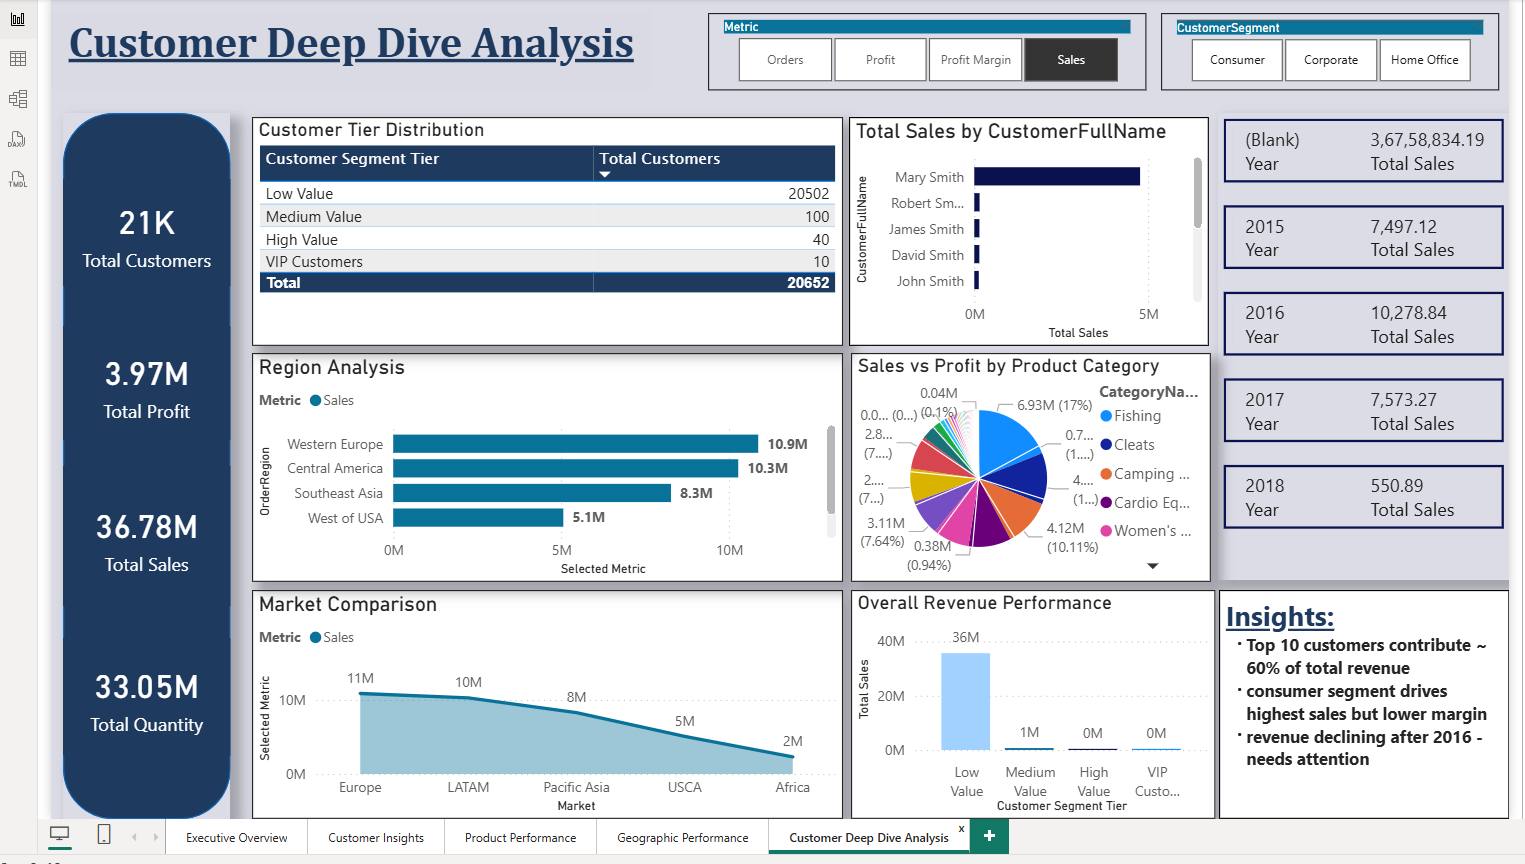

The dashboard page shown, as its layout file describes it:
{"tool":"powerbi","page":{"name":"Customer Deep Dive Analysis","canvas":[1280,720],"ordinal":4},"visuals":[{"type":"textbox","box":[0,10.9,527.2,68.8],"z":0},{"type":"slicer","fields":{"Values":["DimCustomer.CustomerSegment"]},"box":[974.8,12.1,296.8,67.6],"z":1000},{"type":"slicer","fields":{"Values":["Metric Selector.Metric"]},"box":[576.7,12.1,384.9,67.6],"z":2000},{"type":"areaChart","title":"Market Comparison","fields":{"Category":["FactOrders.Market"],"Y":["Metric Selector.Selected Metric"],"Series":["Metric Selector.Metric"]},"box":[176.1,518.8,518.8,201.5],"z":3000},{"type":"barChart","title":"Region Analysis","fields":{"Category":["DimMarket.OrderRegion"],"Series":["Metric Selector.Metric"],"Y":["Metric Selector.Selected Metric"]},"box":[176.1,311.3,518.8,201.5],"z":4000},{"type":"pieChart","title":"Sales vs Profit by Product Category","fields":{"Category":["DimProduct.CategoryName"],"Y":["Measures (1).Total Sales","Measures (1).Total Profit"]},"box":[702.1,311.3,316.1,201.5],"z":5000},{"type":"tableEx","title":"Customer Tier Distribution","fields":{"Values":["DimCustomer.Customer Segment Tier","Segmentation.Total Customers"]},"box":[176.1,103.8,518.8,201.5],"z":6000},{"type":"columnChart","title":"Overall Revenue Performance","fields":{"Category":["DimCustomer.Customer Segment Tier"],"Y":["Measures (1).Total Sales"]},"box":[702.1,518.5,319.7,201.5],"z":7000},{"type":"multiRowCard","title":"Annual Revenue Trend Analysis","fields":{"Values":["DimDate.Year","Measures (1).Total Sales"]},"box":[1024.3,100.1,255.8,410.2],"z":8000},{"type":"barChart","fields":{"Category":["DimCustomer.CustomerFullName"],"Y":["Measures (1).Total Sales"]},"box":[700.9,103.8,316.1,201.5],"z":9000},{"type":"shape","box":[10.9,100.1,147.2,620.1],"z":10000},{"type":"card","fields":{"Values":["Segmentation.Total Customers"]},"box":[10.9,158,147.2,94.1],"z":11000},{"type":"card","fields":{"Values":["Measures (1).Total Profit"]},"box":[10.9,287.1,147.2,100.1],"z":12000},{"type":"card","fields":{"Values":["Measures (1).Total Sales"]},"box":[10.9,410.2,147.2,123.1],"z":13000},{"type":"card","fields":{"Values":["Measures (1).Total Quantity"]},"box":[10.9,561,147.2,102.5],"z":14000},{"type":"textbox","box":[1025.4,518.5,254.6,201.5],"z":15000}]}

Visuals, with their boxes in screenshot pixels (x1, y1, x2, y2):
textbox: box=[52, 12, 649, 90]
slicer - DimCustomer.CustomerSegment: box=[1156, 14, 1493, 90]
slicer - Metric Selector.Metric: box=[705, 14, 1141, 90]
"Market Comparison" areaChart: box=[251, 588, 839, 816]
"Region Analysis" barChart: box=[251, 353, 839, 581]
"Sales vs Profit by Product Category" pieChart: box=[847, 353, 1206, 581]
"Customer Tier Distribution" tableEx: box=[251, 118, 839, 346]
"Overall Revenue Performance" columnChart: box=[847, 588, 1210, 816]
"Annual Revenue Trend Analysis" multiRowCard: box=[1212, 113, 1502, 578]
barChart - DimCustomer.CustomerFullName x Measures (1).Total Sales: box=[846, 118, 1204, 346]
shape: box=[64, 113, 231, 816]
card - Segmentation.Total Customers: box=[64, 179, 231, 286]
card - Measures (1).Total Profit: box=[64, 325, 231, 439]
card - Measures (1).Total Sales: box=[64, 465, 231, 604]
card - Measures (1).Total Quantity: box=[64, 636, 231, 752]
textbox: box=[1214, 588, 1502, 816]
